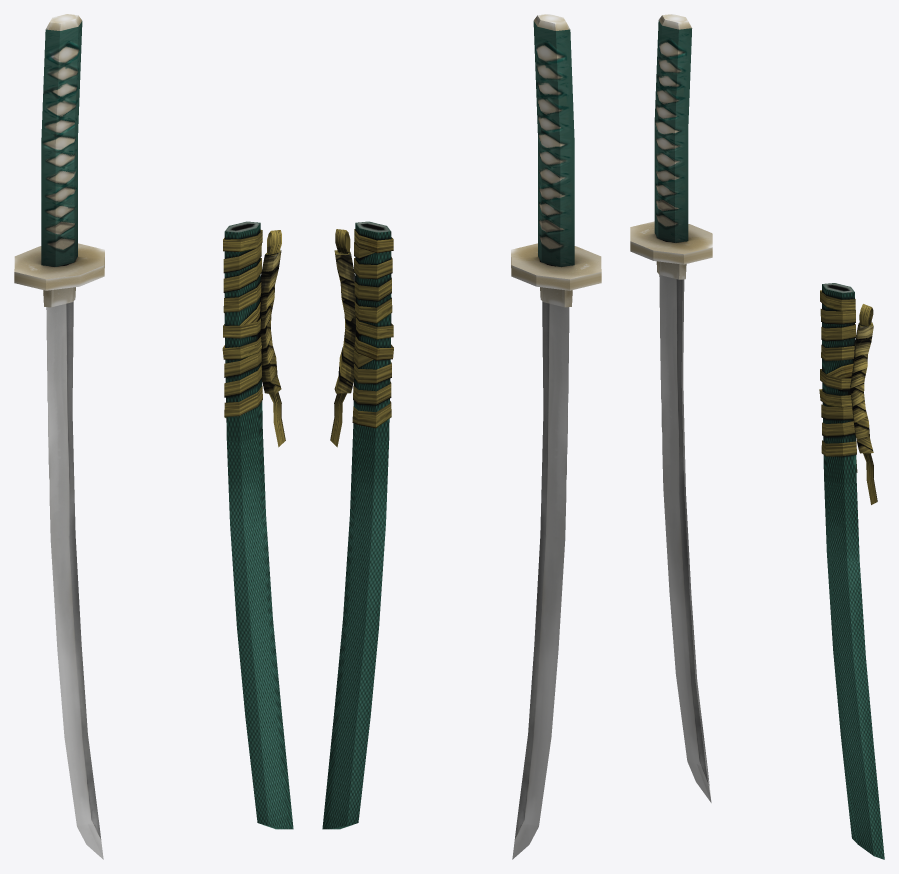
File: katana.FBX
3 renders of one model, left to right at view 1: azimuth 30°, elevation 25°; view 2: azimuth 150°, elevation 25°; view 3: azimuth 330°, elevation 25°, orthographic. The views are drawn at different scales.
Parts seen in each view (by area): view 1: katana, katana_sheath; view 2: katana, katana_sheath; view 3: katana, katana_sheath.
Boxes of the visible parts, box(x1,y1,x2,y2) form: katana: box(14, 14, 104, 859); katana_sheath: box(222, 221, 293, 829); katana: box(511, 14, 601, 859); katana_sheath: box(322, 221, 393, 829); katana: box(630, 14, 712, 802); katana_sheath: box(819, 283, 884, 859).
Bounding box in the file's own units: 26.8 × 79.49 × 6.62.
